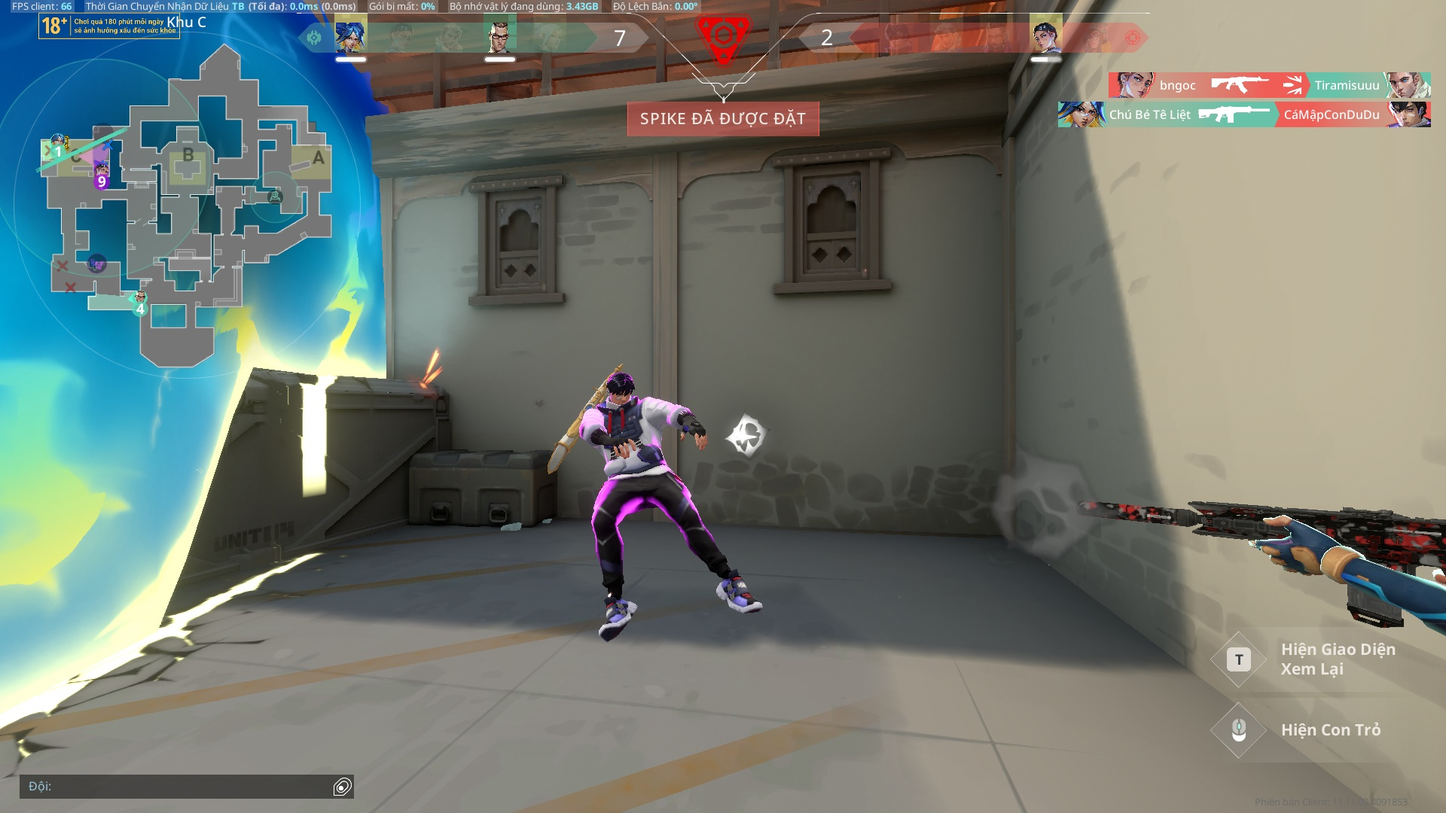body: (586, 399, 666, 461)
head: (600, 373, 633, 404)
